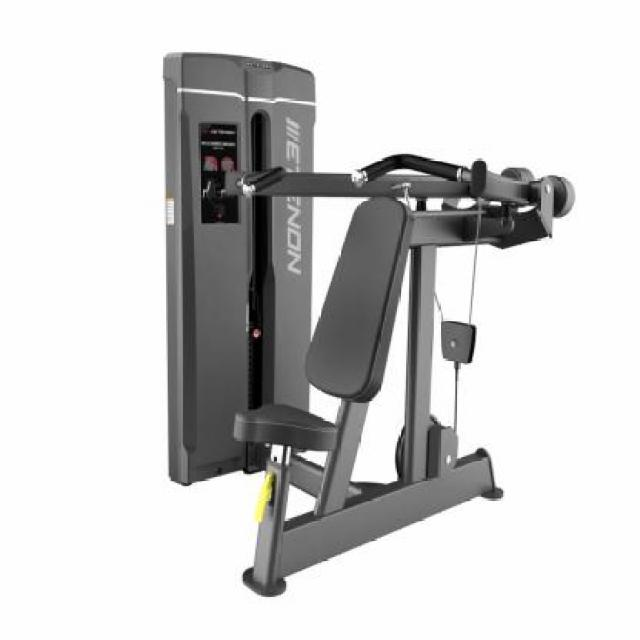shoulder press machine: (156, 40, 582, 605)
